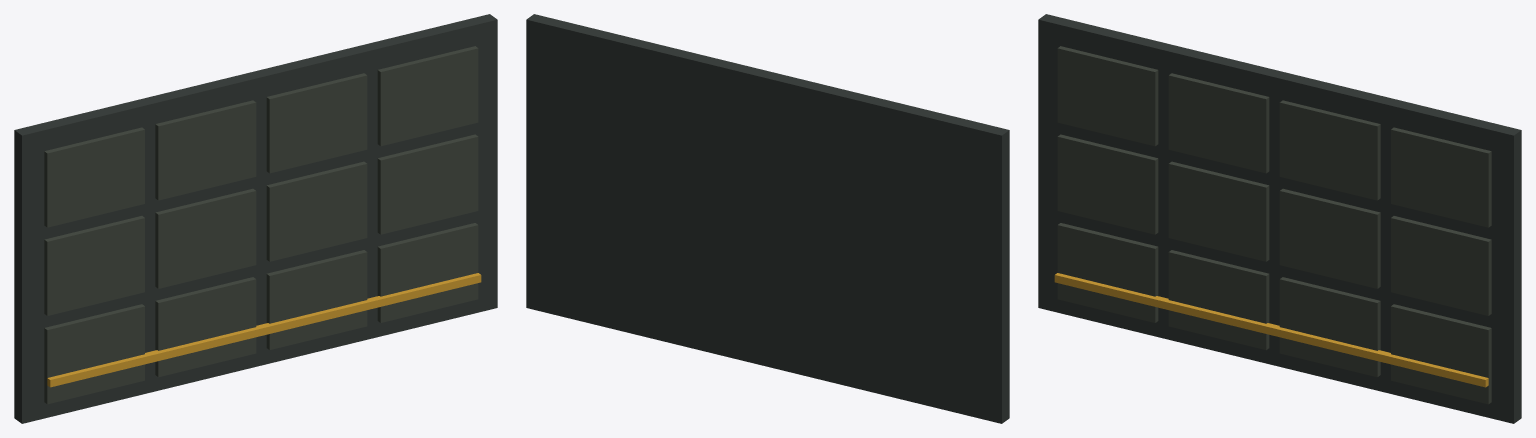
The model's file is Bastion_WarFactory_FactoryDoor.obj.
3 views of the same model, side by side, from view 1: azimuth 30°, elevation 25°; view 2: azimuth 150°, elevation 25°; view 3: azimuth 330°, elevation 25° (orthographic).
Parts seen in each view (by area): view 1: Bastion_WarFactory_FactoryDoor; view 2: Bastion_WarFactory_FactoryDoor; view 3: Bastion_WarFactory_FactoryDoor.
Boxes of the visible parts, x1,y1,x2,y2 form: Bastion_WarFactory_FactoryDoor: (14, 14, 497, 423); Bastion_WarFactory_FactoryDoor: (526, 14, 1009, 423); Bastion_WarFactory_FactoryDoor: (1038, 14, 1521, 423).
Bounding box in the file's own units: 5.35 × 3.1 × 0.265.
Materials: 1 (1 with a texture image).
